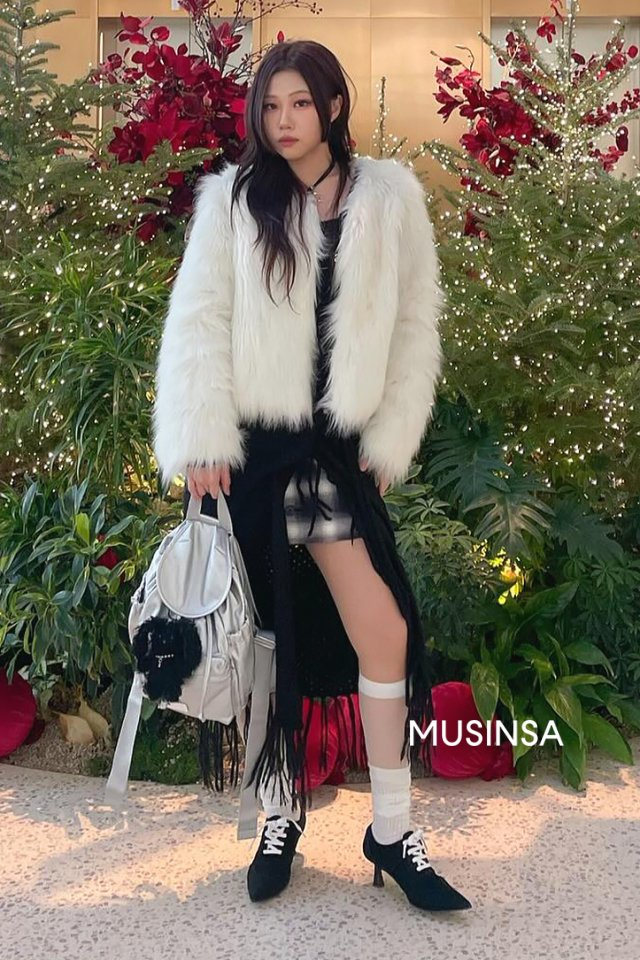Accessories: (297, 160, 340, 207)
Bag: (109, 474, 280, 735)
Outer: (146, 149, 442, 478)
Shoes: (243, 803, 481, 925)
Skirt: (269, 461, 386, 548)
